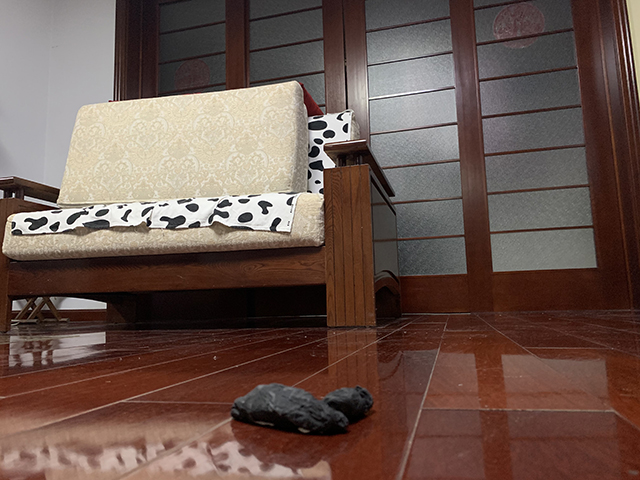feces: (230, 381, 375, 437)
sofa: (1, 78, 404, 331)
